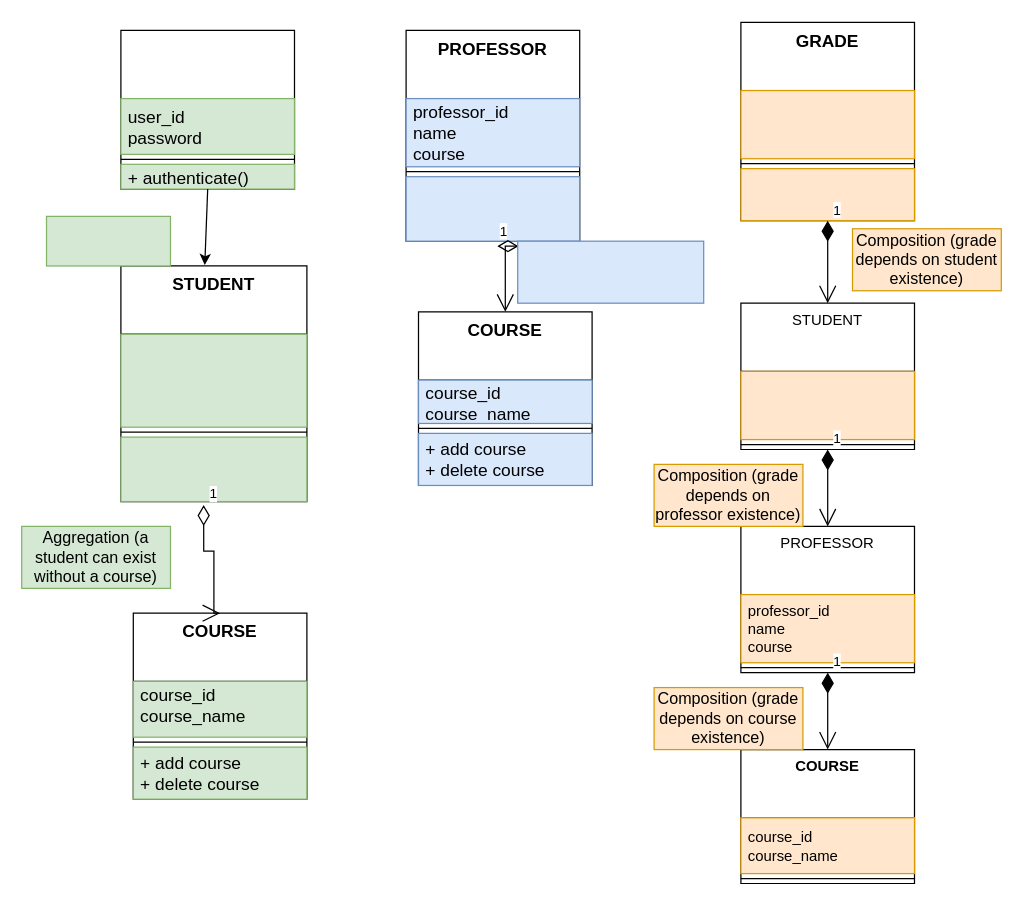
Some shapes in this 1023 by 905 pixel diagram are drawn without their labels. Each missing label, with the box of its shape:
+ assign graded +teach course: (405, 175, 580, 241)
+ assign grades + generate report: (740, 167, 914, 221)
+ enrollCourse(course_id) + viewGraded(): (120, 436, 307, 502)
Aggregation (professor can exist without courses): (516, 240, 704, 303)
Association (direct access): (45, 215, 170, 266)
grade_id grade marks range: (740, 89, 914, 159)
LOGIN: (120, 29, 294, 189)
student_id first_name last_name email_address: (120, 333, 307, 427)
student_id name email: (740, 370, 914, 440)
